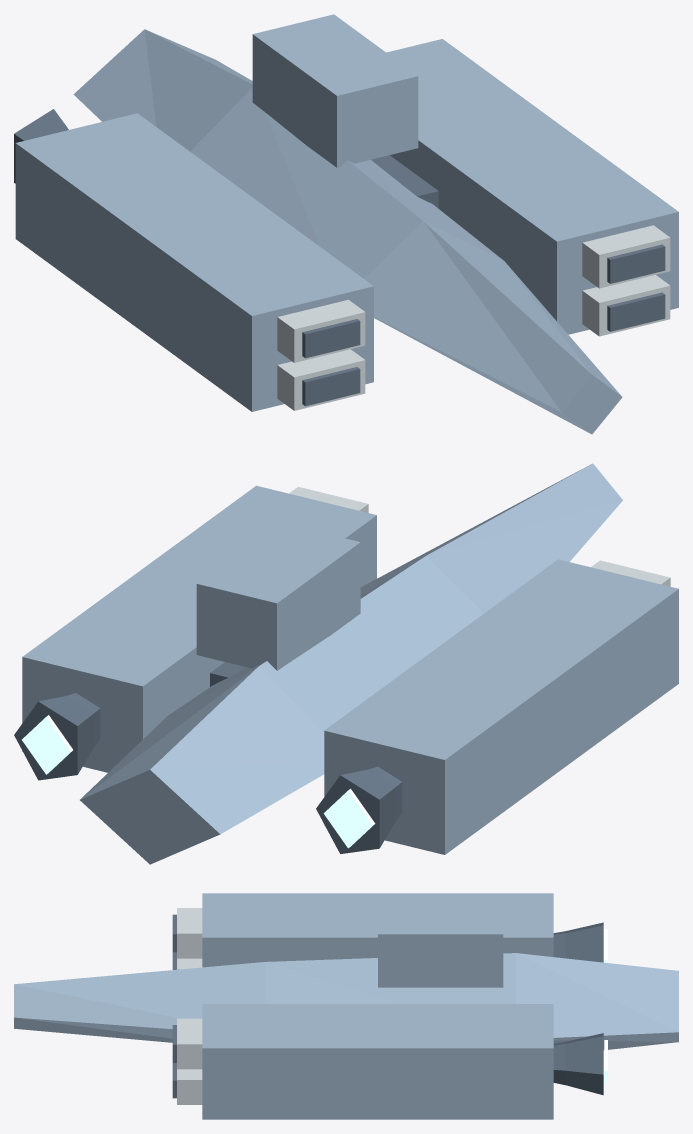
The picture shows the model from 3 angles, top to bottom: view 1: azimuth 30°, elevation 25°; view 2: azimuth 150°, elevation 25°; view 3: azimuth 270°, elevation 25°; orthographic projection. The views are drawn at different scales.
Bounding box in the file's own units: 6.18 × 2.82 × 11.22.
